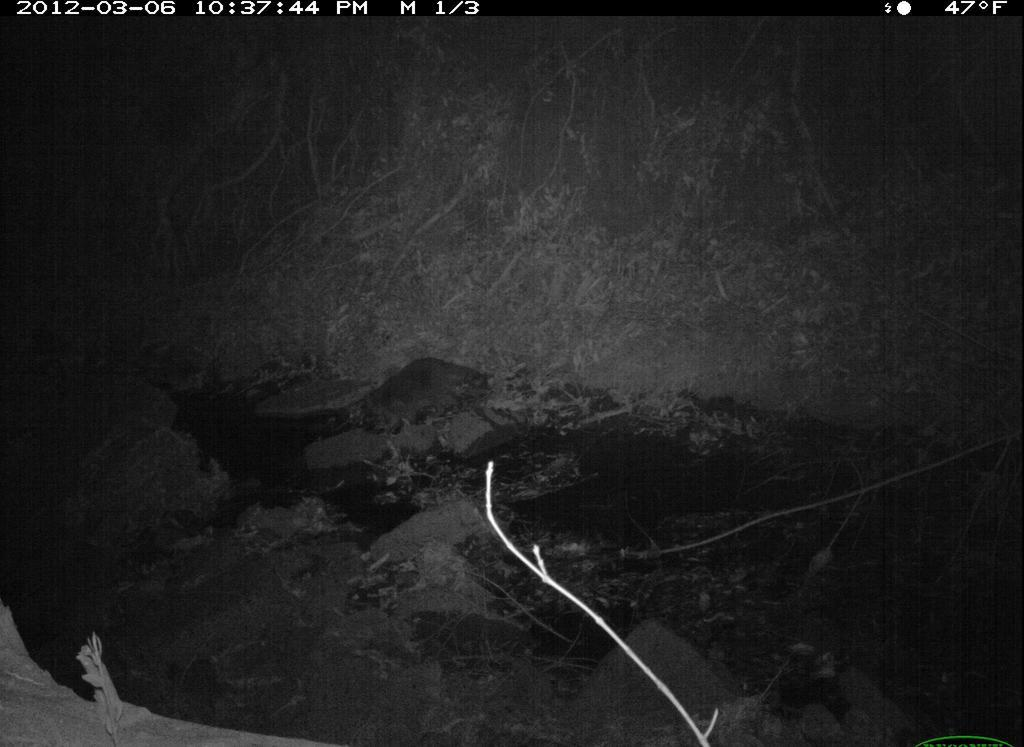raccoon: (346, 355, 502, 449)
